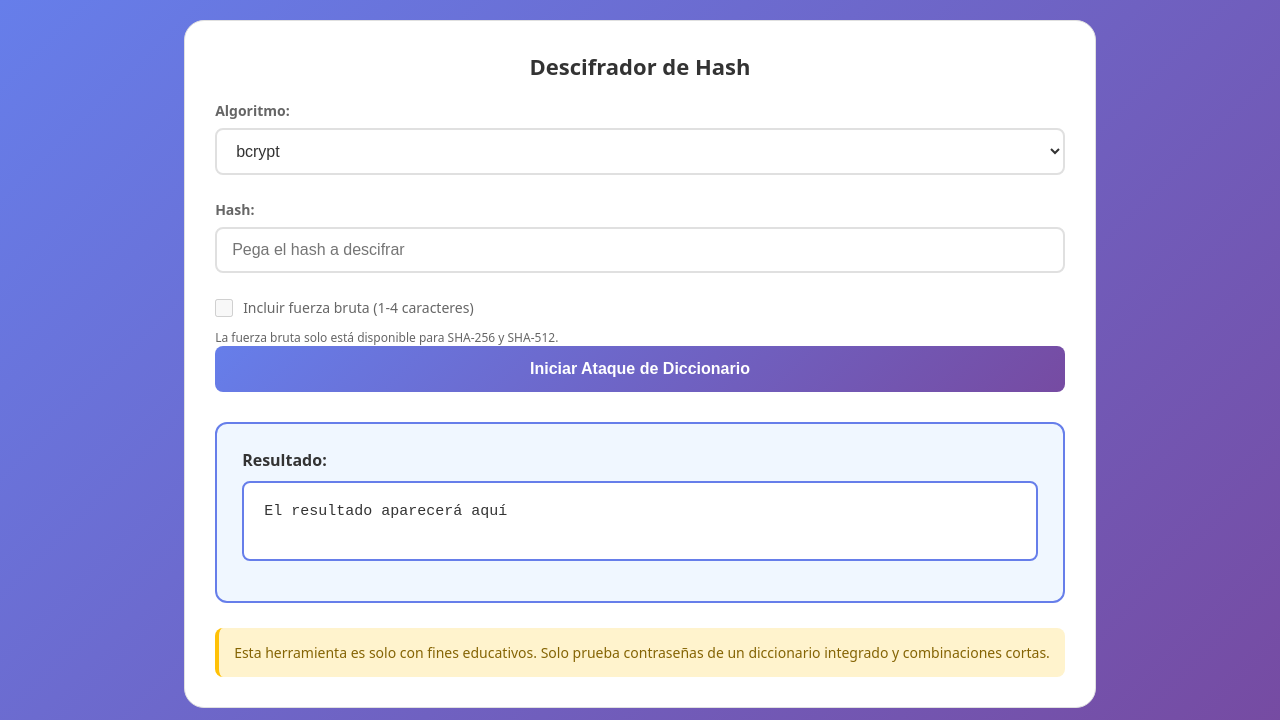
Scenario: HashCracker › checkbox de fuerza bruta habilitado para SHA-256
Step 1. Select "SHA-256" in the dropdown labelled "Algoritmo:" → (640, 152), box [215,128,1065,175]
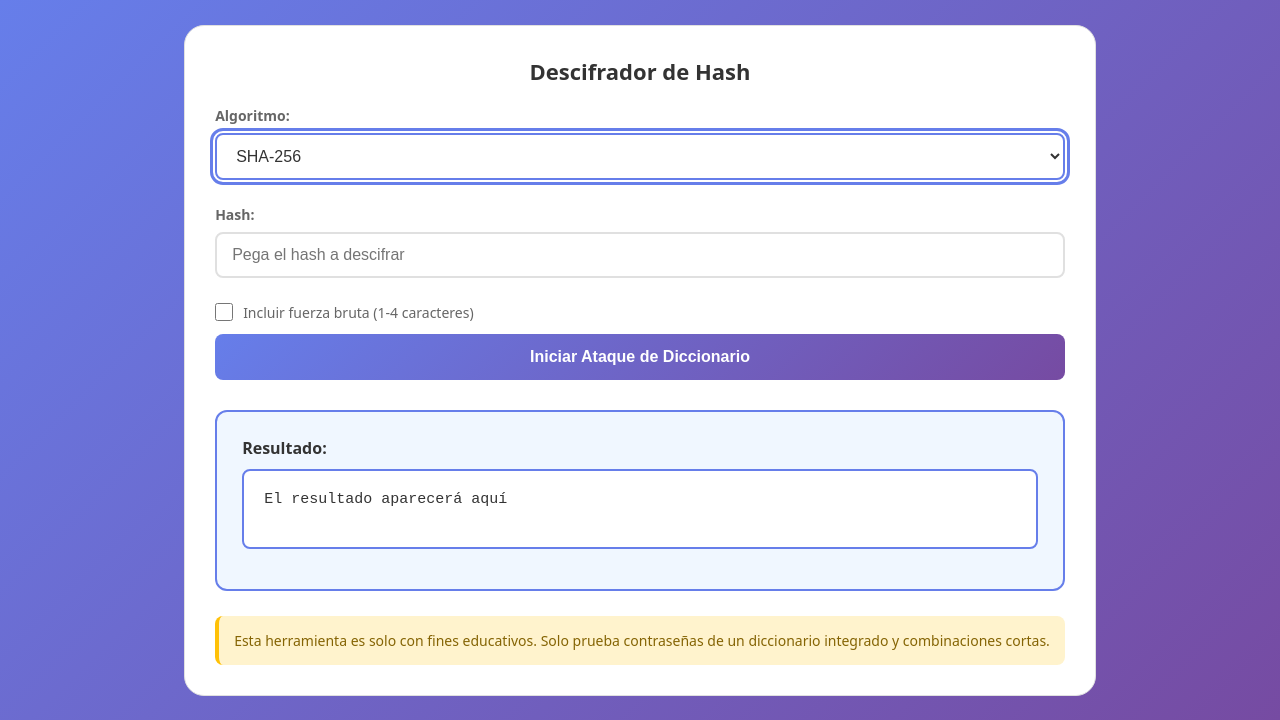
Expected: the checkbox labelled "Incluir fuerza bruta (1-4 caracteres)" is enabled, [215,303,233,321]
